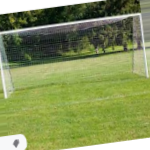goals: (1, 12, 150, 100)
